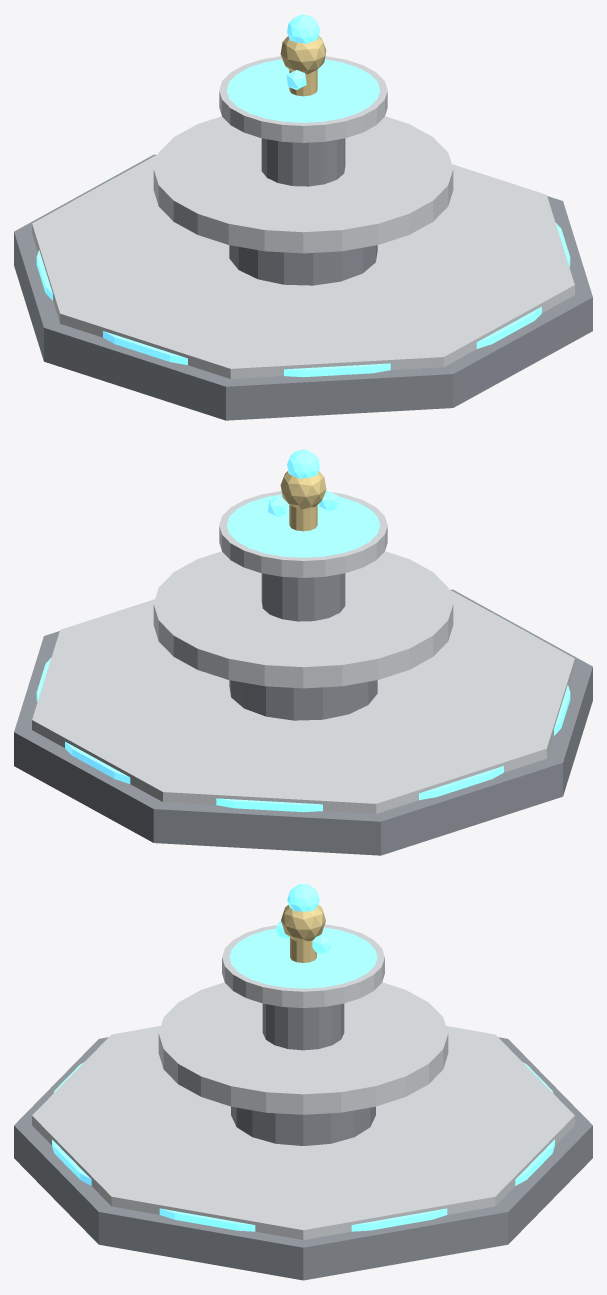
The model's file is fountain.glb.
3 views of the same model, one above another, from view 1: azimuth 30°, elevation 25°; view 2: azimuth 150°, elevation 25°; view 3: azimuth 270°, elevation 25° (orthographic). The views are drawn at different scales.
Visible parts, largest first — view 1: Cylinder.001, Cylinder.004, Cylinder, Cylinder.008, Cylinder.007, Cylinder.003, Cylinder.006, Cylinder.002, Icosphere, Icosphere.001; view 2: Cylinder.001, Cylinder.004, Cylinder, Cylinder.008, Cylinder.007, Cylinder.003, Cylinder.006, Cylinder.002, Icosphere, Icosphere.001, Cylinder.009; view 3: Cylinder.001, Cylinder.004, Cylinder, Cylinder.008, Cylinder.007, Cylinder.003, Cylinder.006, Cylinder.002, Icosphere, Icosphere.001, Cylinder.009.
Boxes of the visible parts, x1,y1,x2,y2 form: Cylinder.001: (32, 154, 574, 378); Cylinder.004: (153, 116, 453, 253); Cylinder: (14, 154, 592, 420); Cylinder.008: (226, 59, 380, 122); Cylinder.007: (219, 56, 387, 142); Cylinder.003: (229, 245, 377, 285); Cylinder.006: (261, 138, 345, 186); Cylinder.002: (36, 179, 570, 377); Icosphere: (280, 36, 326, 74); Icosphere.001: (287, 14, 319, 43); Cylinder.001: (32, 589, 574, 813); Cylinder.004: (153, 551, 453, 688); Cylinder: (14, 589, 592, 855); Cylinder.008: (226, 494, 380, 557); Cylinder.007: (219, 491, 387, 577); Cylinder.003: (229, 680, 377, 720); Cylinder.006: (261, 573, 345, 621); Cylinder.002: (36, 614, 570, 812); Icosphere: (280, 471, 326, 509); Icosphere.001: (287, 449, 319, 478); Cylinder.009: (289, 504, 317, 531); Cylinder.001: (32, 1026, 574, 1239); Cylinder.004: (158, 982, 448, 1114); Cylinder: (14, 1037, 592, 1280); Cylinder.008: (229, 927, 377, 988); Cylinder.007: (222, 924, 384, 1007); Cylinder.003: (231, 1106, 375, 1145); Cylinder.006: (262, 1003, 344, 1050); Cylinder.002: (52, 1062, 554, 1231); Icosphere: (281, 905, 325, 941); Icosphere.001: (287, 884, 319, 911); Cylinder.009: (290, 937, 316, 962).
Bounding box in the file's own units: 6.4 × 3.33 × 6.4.
